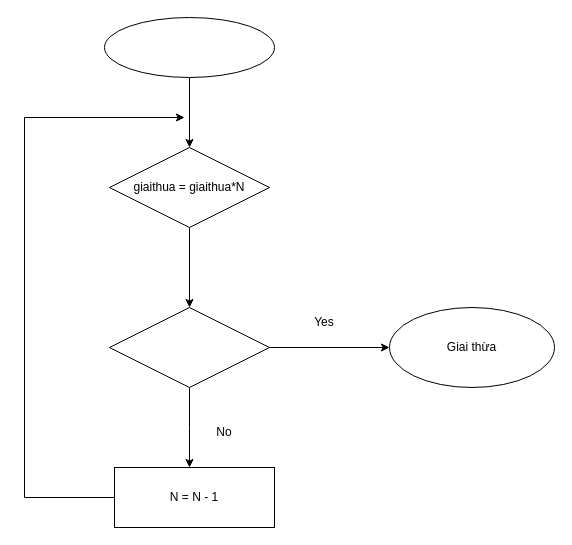
This 572x545 diagram has some shape labels left out. Each missing label, with the box of its shape:
N = 1: (108, 306, 270, 388)
Nhập N, giaithua = 1: (104, 16, 274, 78)
